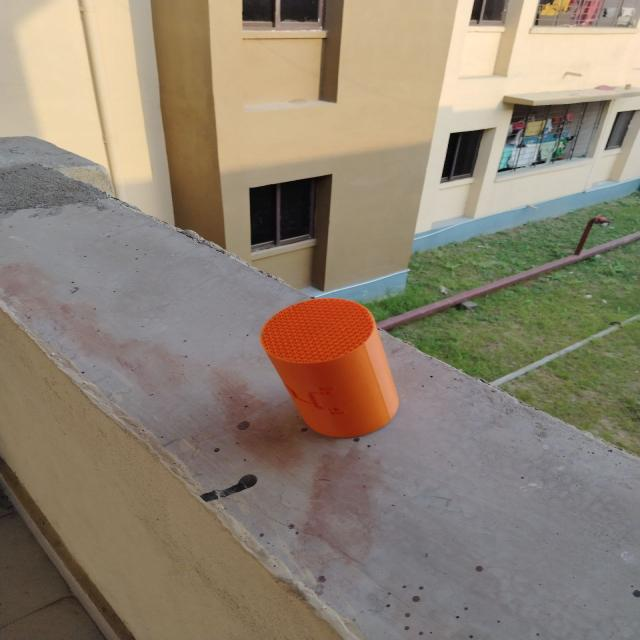Cylinder: (258, 296, 400, 438)
